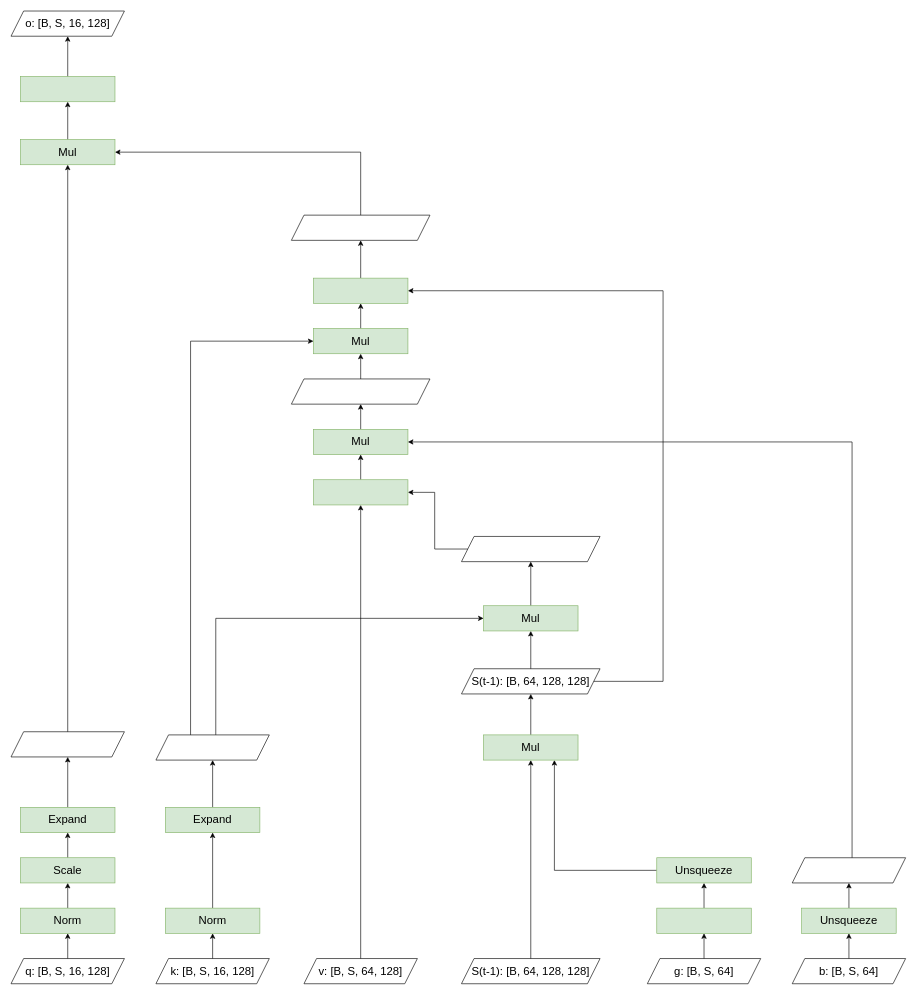
The diagram is 917 pixels wide and 995 high, and some of its shapes have lost their labels. Each missing label, with the box of its shape:
Add: (313, 278, 408, 303)
b: [B, S, 64, 1]: (792, 857, 906, 883)
exp: (656, 908, 751, 933)
k: [B, S, 64, 128]: (155, 734, 269, 760)
kv_mem: (461, 536, 600, 562)
q: [B, S, 64, 128]: (10, 731, 124, 757)
S(t): [B, 64, 128, 128]: (291, 215, 430, 240)
Sub: (313, 479, 408, 505)
Sum: (20, 76, 115, 102)
Δ: [B, S, 64, 128]: (291, 378, 430, 404)
